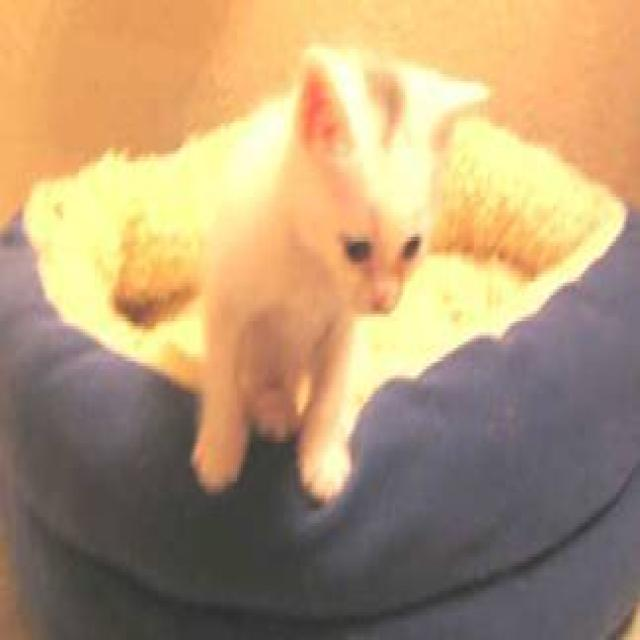cat: (181, 15, 496, 577)
